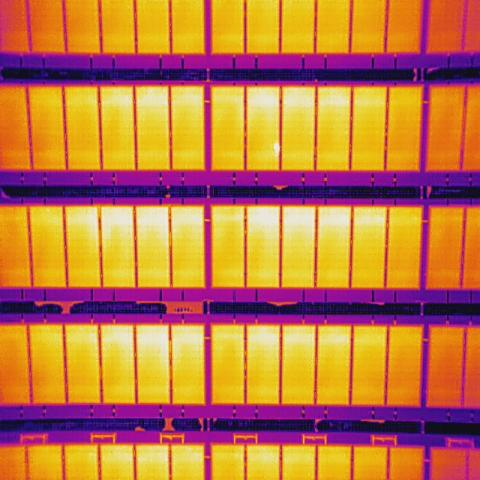fault: (272, 141, 281, 157)
